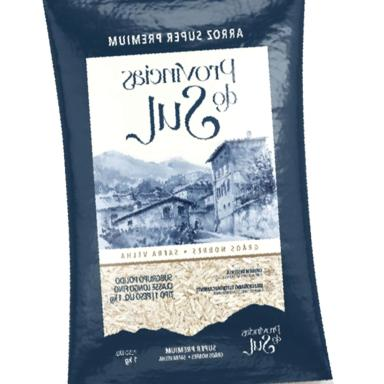rice package: (44, 0, 331, 383)
